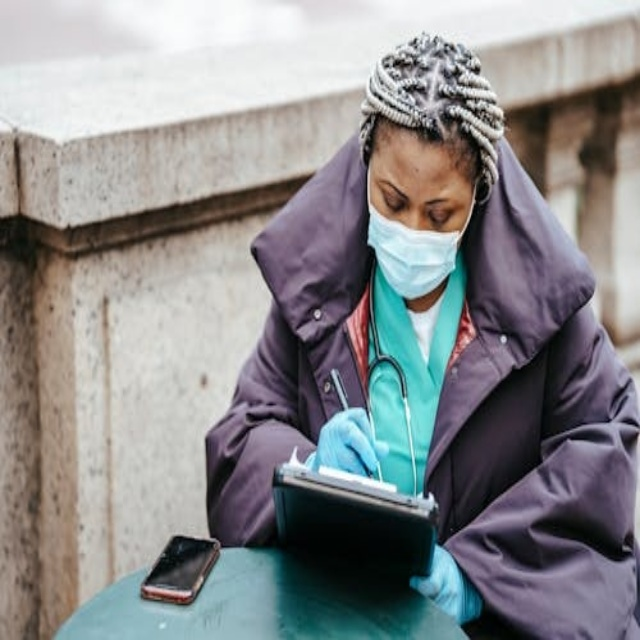Guantes: (407, 534, 489, 630), (306, 398, 389, 484)
Mascara: (360, 183, 474, 298)
Sin_gafas: (372, 171, 461, 231)
